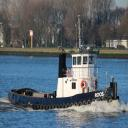tugboat: (8, 45, 121, 116)
